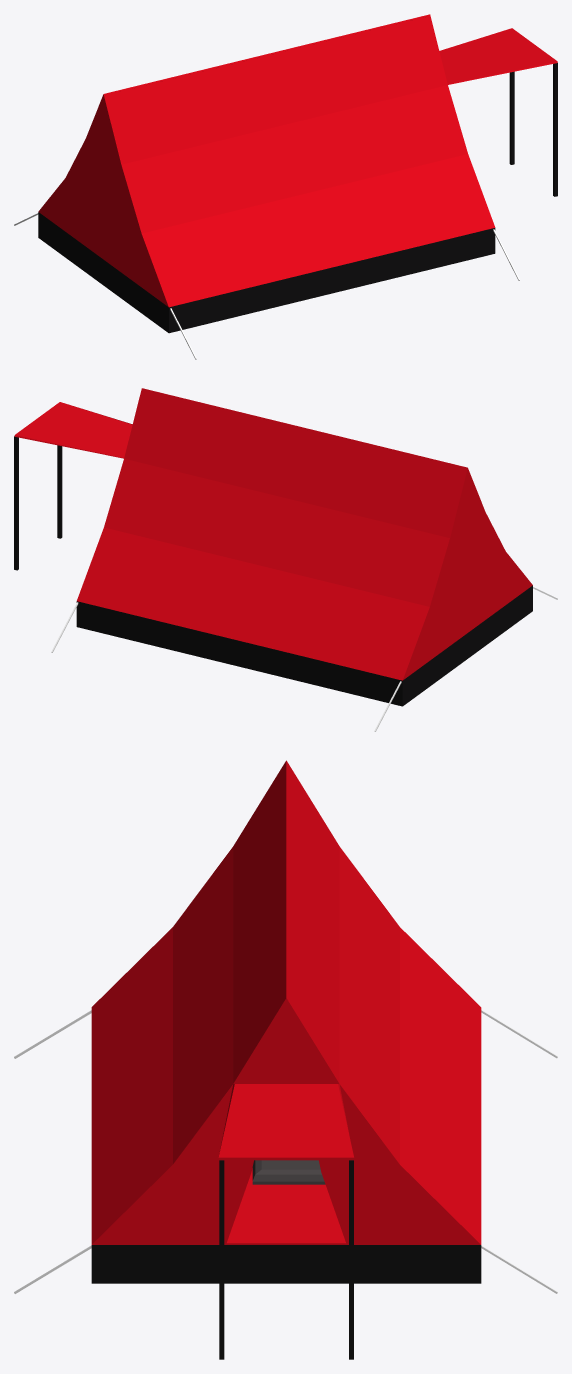
The model's file is ENVI_LV2-3_Tent.fbx.
3 renders of one model, top to bottom at view 1: azimuth 30°, elevation 25°; view 2: azimuth 150°, elevation 25°; view 3: azimuth 270°, elevation 25°, orthographic. The views are drawn at different scales.
Visible parts, largest first — view 1: Tent; view 2: Tent; view 3: Tent.
Boxes of the visible parts, x1,y1,x2,y2 form: Tent: (14,14,557,359); Tent: (14,388,557,731); Tent: (14,760,557,1359).
Size of the model in its own units: 540 by 238 by 395.
